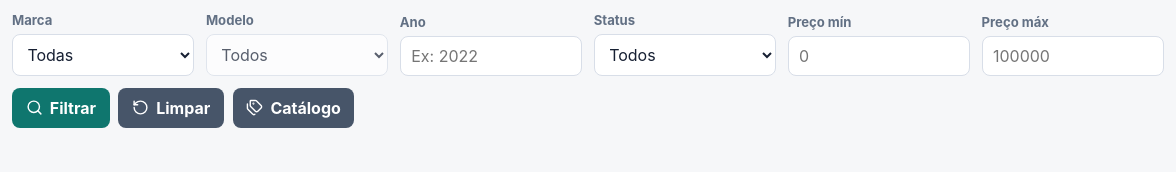
Test: VehicleFilters › clears selected filters
Step 1. Select "Toyota" in the dropdown labelled "Marca" → (103, 55), box [12, 34, 194, 76]
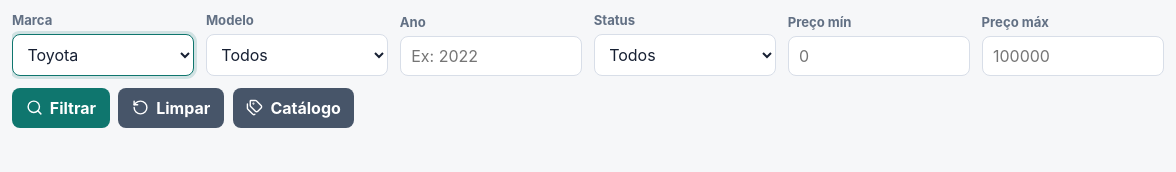
Step 2. Click the button "Limpar" → (171, 108), box [118, 88, 224, 128]
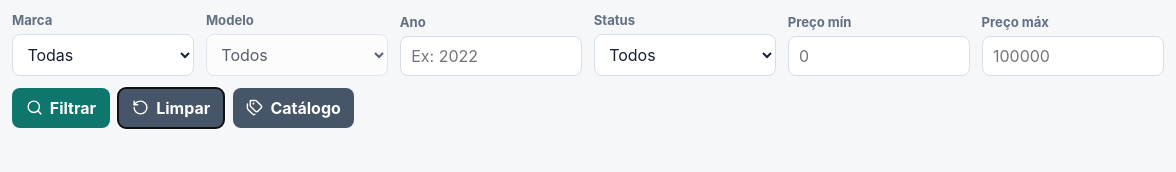
Now the dropdown labelled "Modelo" is disabled, box [206, 34, 388, 76]
